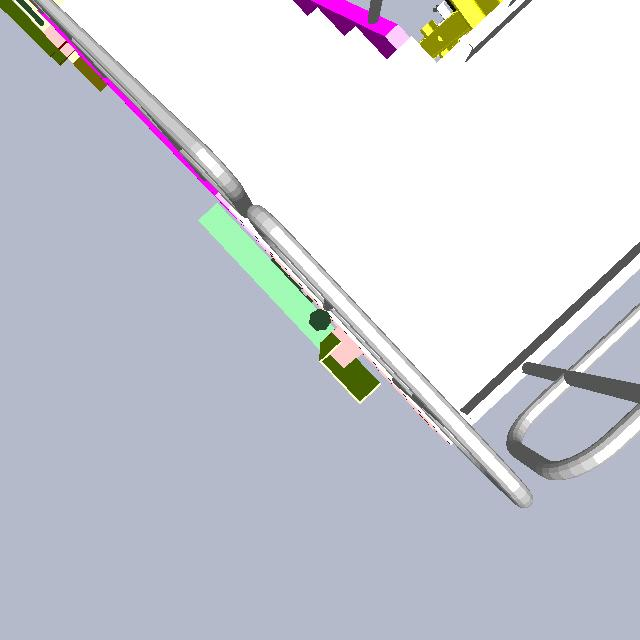Poste: (306, 300, 334, 341)
Soporte: (316, 318, 397, 409)
